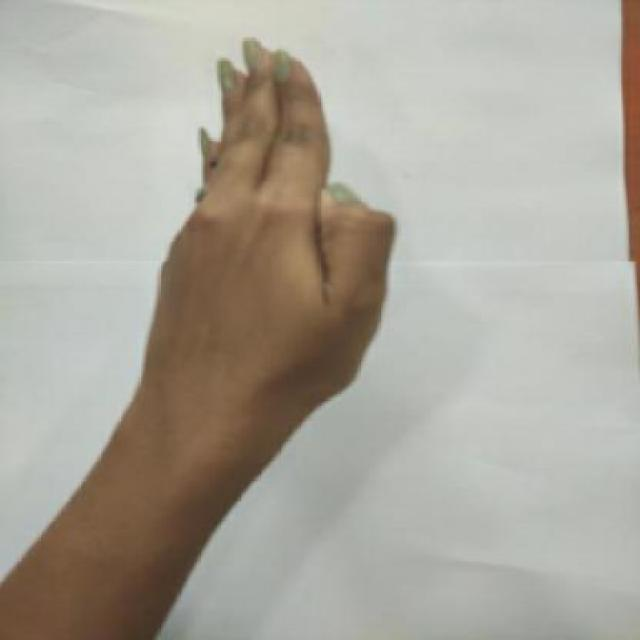without_gloves: (127, 21, 415, 512)
